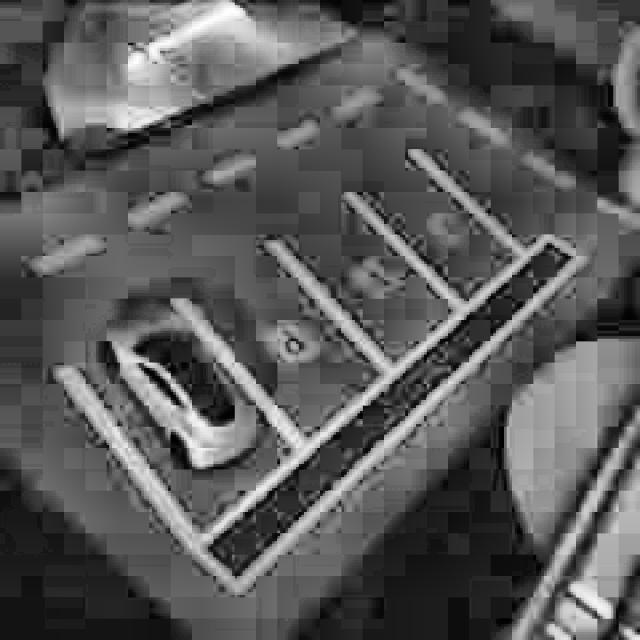car: (88, 304, 266, 491)
